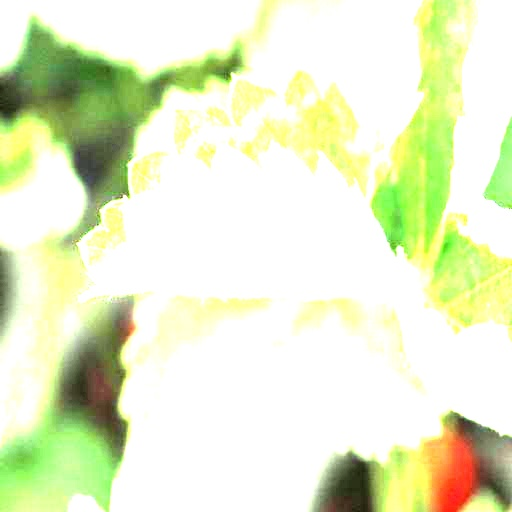Powdery Mildew Leaf: (75, 62, 394, 304), (366, 0, 511, 266), (392, 195, 511, 437)
